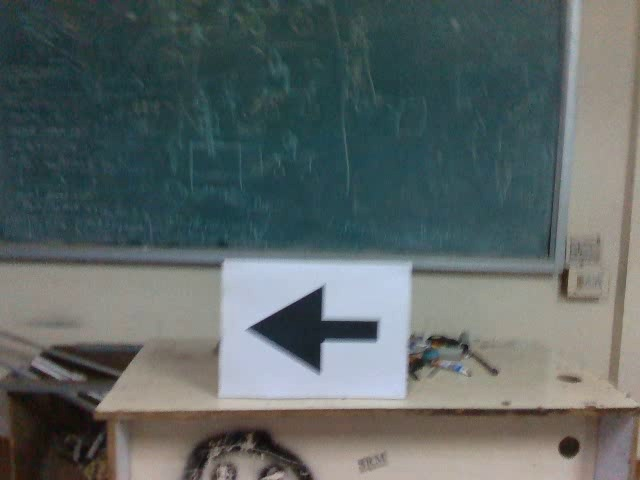Left: (239, 277, 387, 376)
